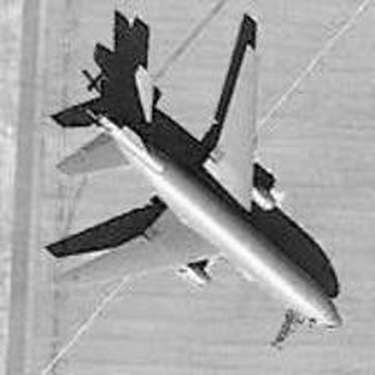airplane: (28, 11, 354, 343)
